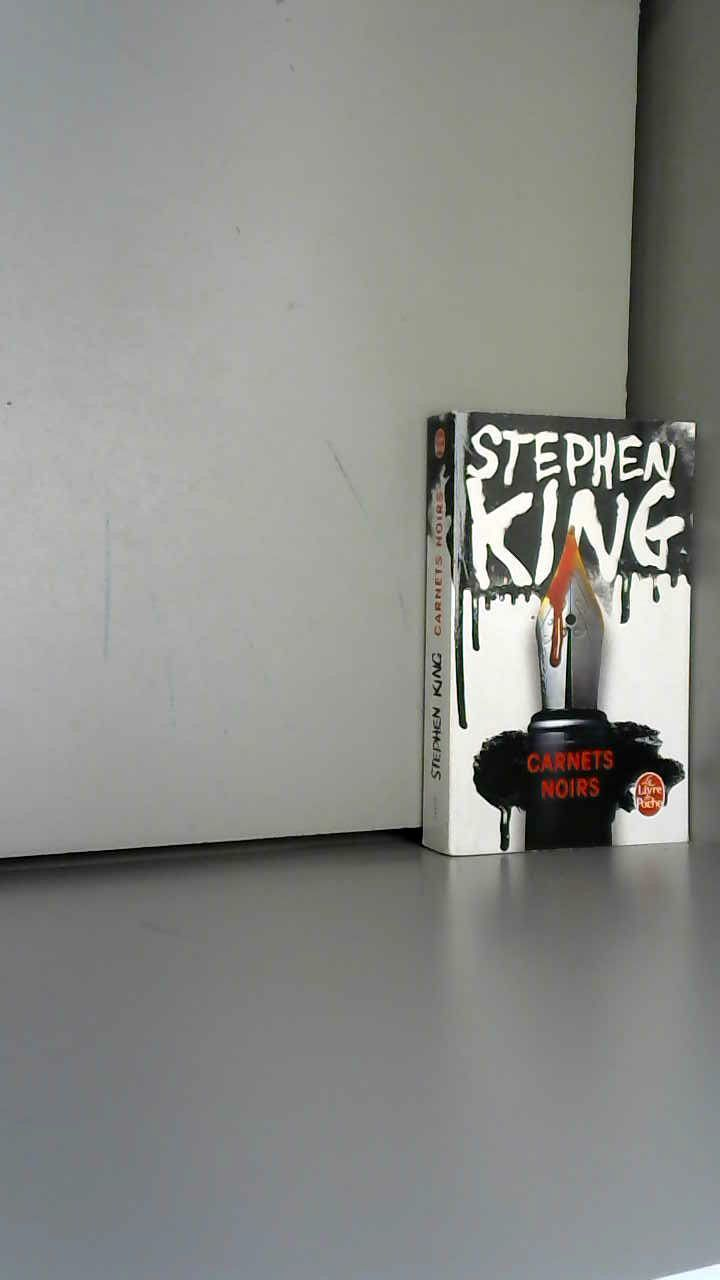book: (390, 380, 720, 914)
